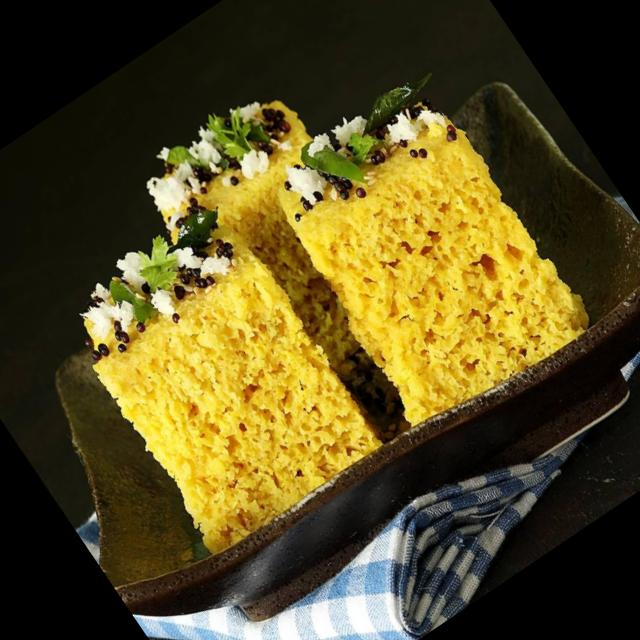dhokla: (22, 8, 596, 564)
